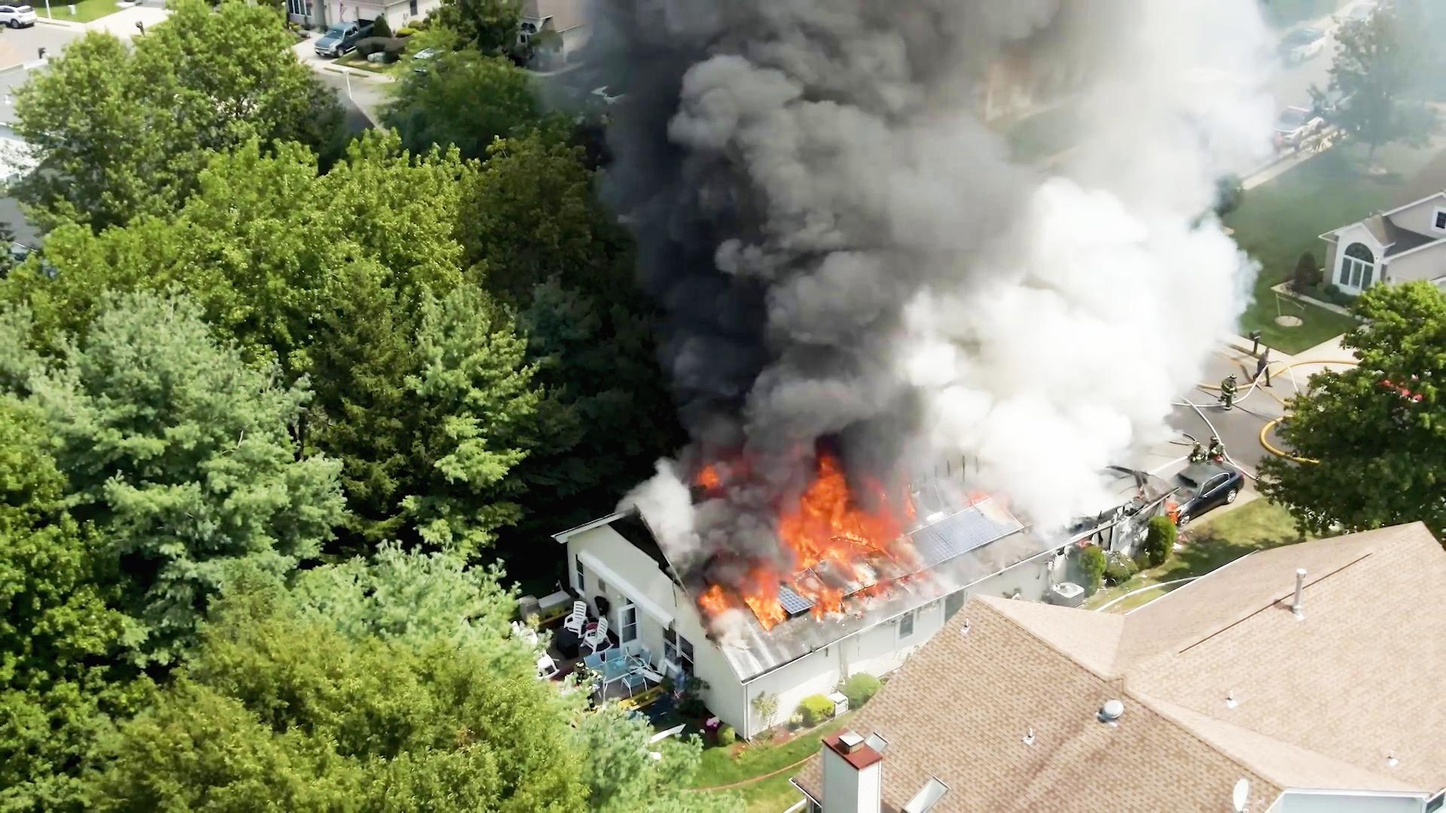fire: (764, 456, 900, 583)
smoke: (626, 0, 942, 445), (961, 0, 1234, 456)
